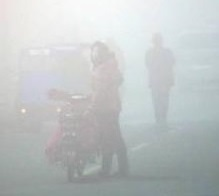person: (85, 38, 136, 180), (143, 32, 178, 135)
